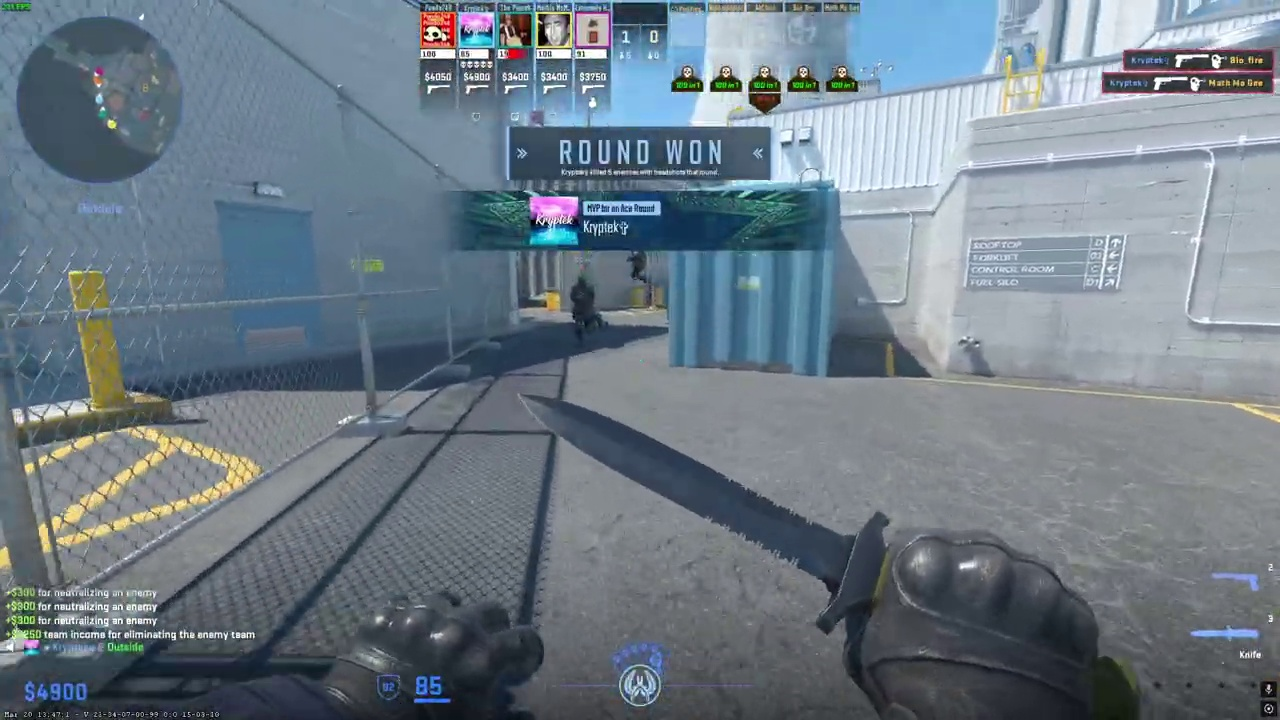CT: (567, 276, 604, 343)
